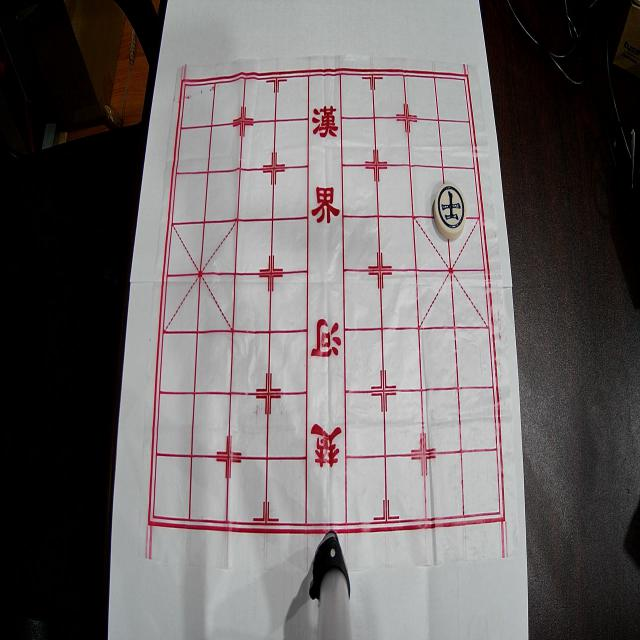black-guard: (434, 183, 466, 240)
